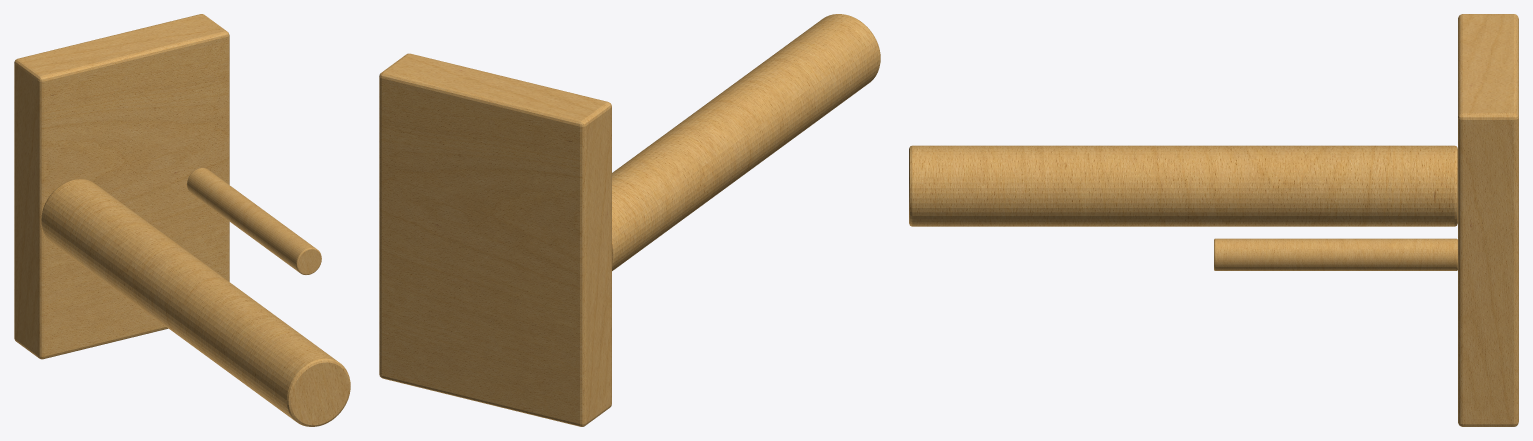
3 renders of one model, left to right at view 1: azimuth 30°, elevation 25°; view 2: azimuth 150°, elevation 25°; view 3: azimuth 270°, elevation 25°, orthographic. The views are drawn at different scales.
Parts seen in each view (by area): view 1: tube_starting_fixture; view 2: tube_starting_fixture; view 3: tube_starting_fixture.
Part boxes in pixels (x1,y1,x2,y2): tube_starting_fixture: (14,14,350,426); tube_starting_fixture: (379,14,880,426); tube_starting_fixture: (909,14,1518,426).
Size of the model in its own units: 0.06 by 0.085 by 0.15.
Materials: 1 (1 with a texture image).
